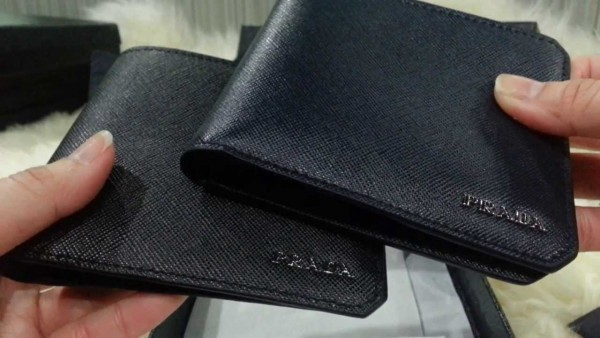monedero: (175, 1, 581, 287), (1, 44, 391, 318)
